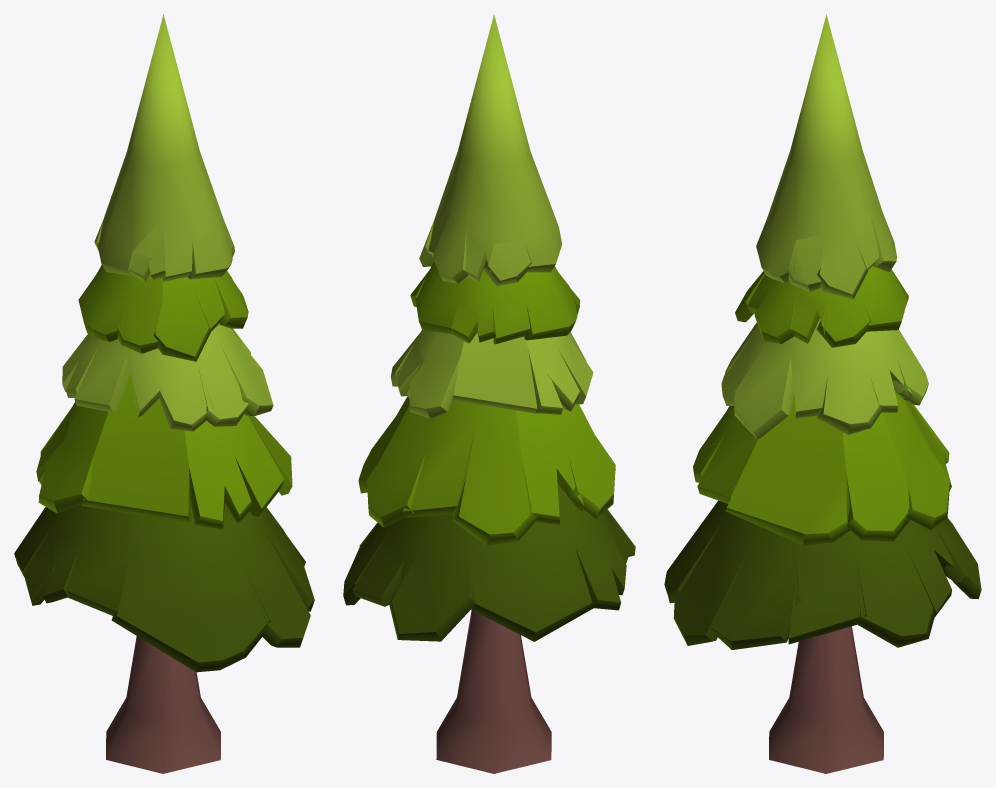
File: Pine_tree_03.fbx
3 views of the same model, side by side, from view 1: azimuth 30°, elevation 25°; view 2: azimuth 150°, elevation 25°; view 3: azimuth 270°, elevation 25° (orthographic).
Visible parts, largest first — view 1: Pine_tree_03Shape; view 2: Pine_tree_03Shape; view 3: Pine_tree_03Shape.
Boxes of the visible parts, <box> form: Pine_tree_03Shape: <box>14,14,314,773</box>; Pine_tree_03Shape: <box>343,14,635,773</box>; Pine_tree_03Shape: <box>664,14,981,773</box>.
Size of the model in its own units: 5.43 by 14.95 by 5.87.
